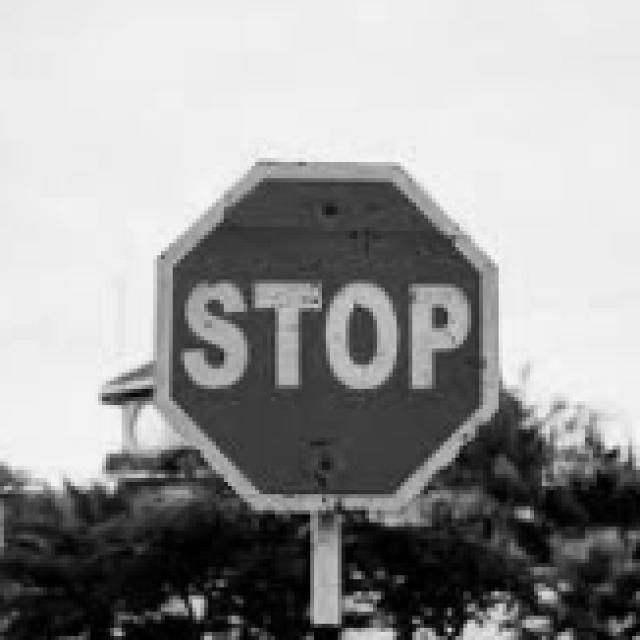Stop-signs: (154, 160, 502, 515)
